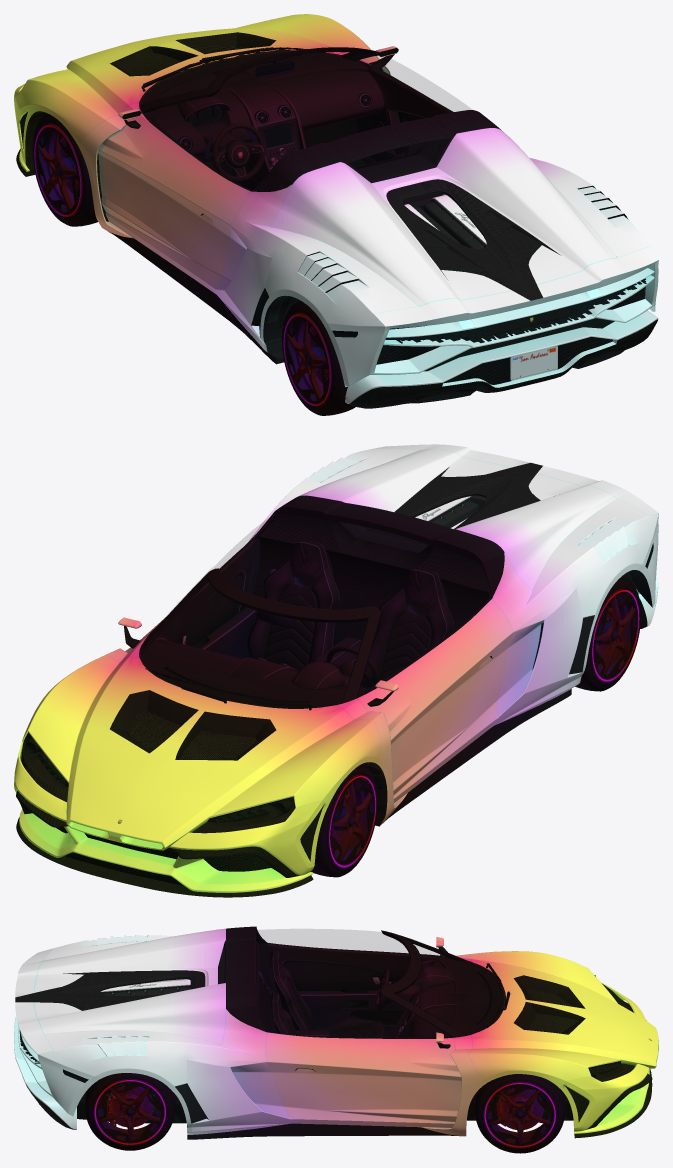
File: zorrusso.glb
3 views of the same model, one above another, from view 1: azimuth 30°, elevation 25°; view 2: azimuth 150°, elevation 25°; view 3: azimuth 270°, elevation 25° (orthographic). The views are drawn at different scales.
Parts seen in each view (by area): view 1: bodyshell, bonnet, chassis, door_dside_f, bumper_r, misc_a, window_lf, wheel_lr, wheel_lf, misc_c, door_pside_f, steeringwheel (+4 smaller); view 2: bodyshell, misc_a, chassis, misc_e, bonnet, door_dside_f, window_lf, door_pside_f, wheel_lf, wheel_lr, misc_c, misc_b (+1 smaller); view 3: bodyshell, bonnet, door_pside_f, chassis, misc_a, door_dside_f, window_rf, wheel_rf, wheel_rr, misc_e, window_lf, misc_c (+2 smaller).
Boxes of the visible parts, x1,y1,x2,y2 form: bodyshell: (22,14,658,386); bonnet: (270,128,616,305); chassis: (30,47,486,364); door_dside_f: (101,109,251,289); bumper_r: (345,310,658,408); misc_a: (72,28,342,104); window_lf: (143,96,272,189); wheel_lr: (281,301,355,415); wheel_lf: (32,113,97,226); misc_c: (374,246,658,326); door_pside_f: (356,46,453,164); steeringwheel: (204,123,265,181); bodyshell: (22,448,658,849); misc_a: (71,657,342,841); chassis: (24,495,652,826); misc_e: (14,741,327,897); bonnet: (298,449,616,590); door_dside_f: (357,598,513,798); window_lf: (358,564,489,696); door_pside_f: (118,540,254,658); wheel_lf: (311,764,377,877); wheel_lr: (575,576,641,691); misc_c: (374,444,658,515); misc_b: (66,819,165,850); bodyshell: (18,926,655,1139); bonnet: (34,928,225,1044); door_pside_f: (265,1031,461,1123); chassis: (77,949,573,1132); misc_a: (472,959,657,1060); door_dside_f: (266,937,447,1030); window_rf: (258,996,450,1037); wheel_rf: (474,1074,565,1153); wheel_rr: (84,1073,175,1150); misc_e: (560,981,652,1138); window_lf: (257,929,443,956); misc_c: (15,948,53,1053).
Size of the model in its own units: 2.1 by 1.16 by 4.73.
Materials: 23 (23 with a texture image).
